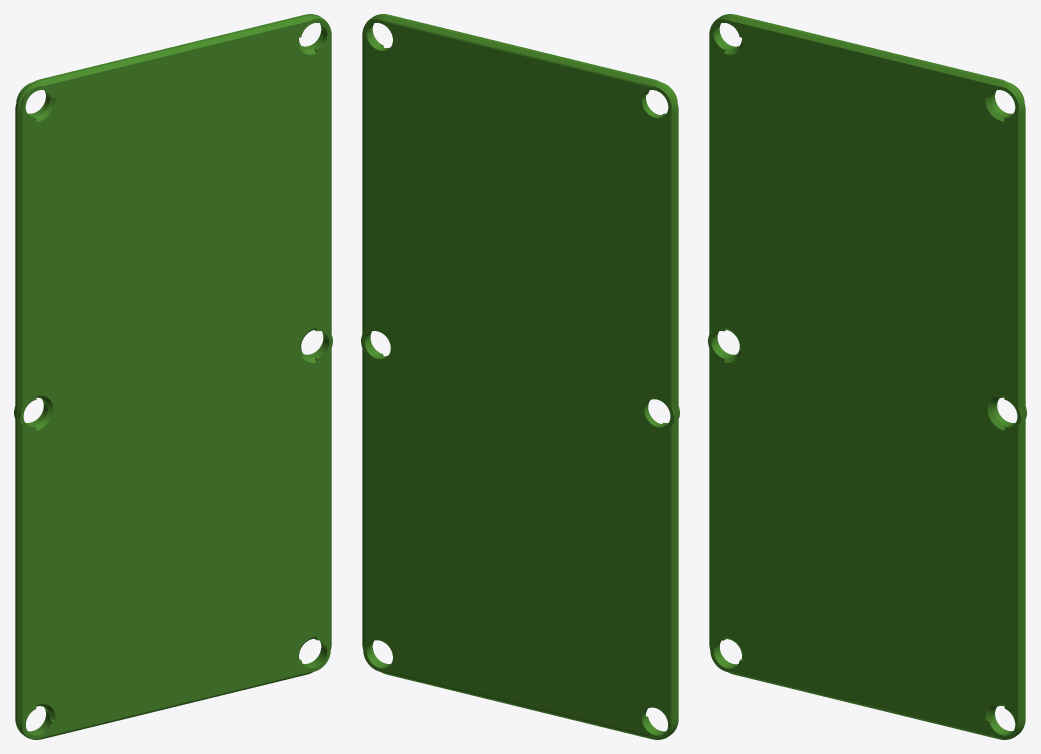
Rendered from Part Studio 1 - Part 1.obj.
3 renders of one model, left to right at view 1: azimuth 30°, elevation 25°; view 2: azimuth 150°, elevation 25°; view 3: azimuth 330°, elevation 25°, orthographic.
Visible parts, largest first — view 1: mesh74, mesh14, mesh20, mesh8, mesh1, mesh9, mesh16; view 2: mesh50, mesh29, mesh20, mesh13, mesh37, mesh44, mesh28, mesh39, mesh9, mesh31, mesh48, mesh36; view 3: mesh74, mesh1, mesh4, mesh8, mesh14, mesh9, mesh16.
Part boxes in pixels (bbox=[...]): mesh74: bbox=[20, 19, 332, 739]; mesh14: bbox=[17, 113, 22, 719]; mesh20: bbox=[15, 112, 17, 718]; mesh8: bbox=[42, 16, 308, 85]; mesh1: bbox=[330, 37, 331, 644]; mesh9: bbox=[40, 14, 306, 80]; mesh16: bbox=[43, 672, 308, 738]; mesh50: bbox=[361, 19, 673, 739]; mesh29: bbox=[673, 113, 676, 719]; mesh20: bbox=[676, 112, 678, 718]; mesh13: bbox=[385, 16, 651, 84]; mesh37: bbox=[362, 37, 363, 643]; mesh44: bbox=[385, 20, 650, 86]; mesh28: bbox=[670, 424, 672, 719]; mesh39: bbox=[670, 113, 672, 408]; mesh9: bbox=[387, 14, 653, 80]; mesh31: bbox=[385, 671, 649, 737]; mesh48: bbox=[363, 38, 364, 332]; mesh36: bbox=[363, 351, 364, 644]; mesh74: bbox=[708, 19, 1020, 739]; mesh1: bbox=[1018, 113, 1023, 719]; mesh4: bbox=[1023, 112, 1025, 718]; mesh8: bbox=[732, 16, 998, 85]; mesh14: bbox=[709, 37, 710, 644]; mesh9: bbox=[734, 14, 1000, 80]; mesh16: bbox=[732, 672, 997, 738].
Size of the model in its own units: 0.18 by 0.36 by 0.006.
